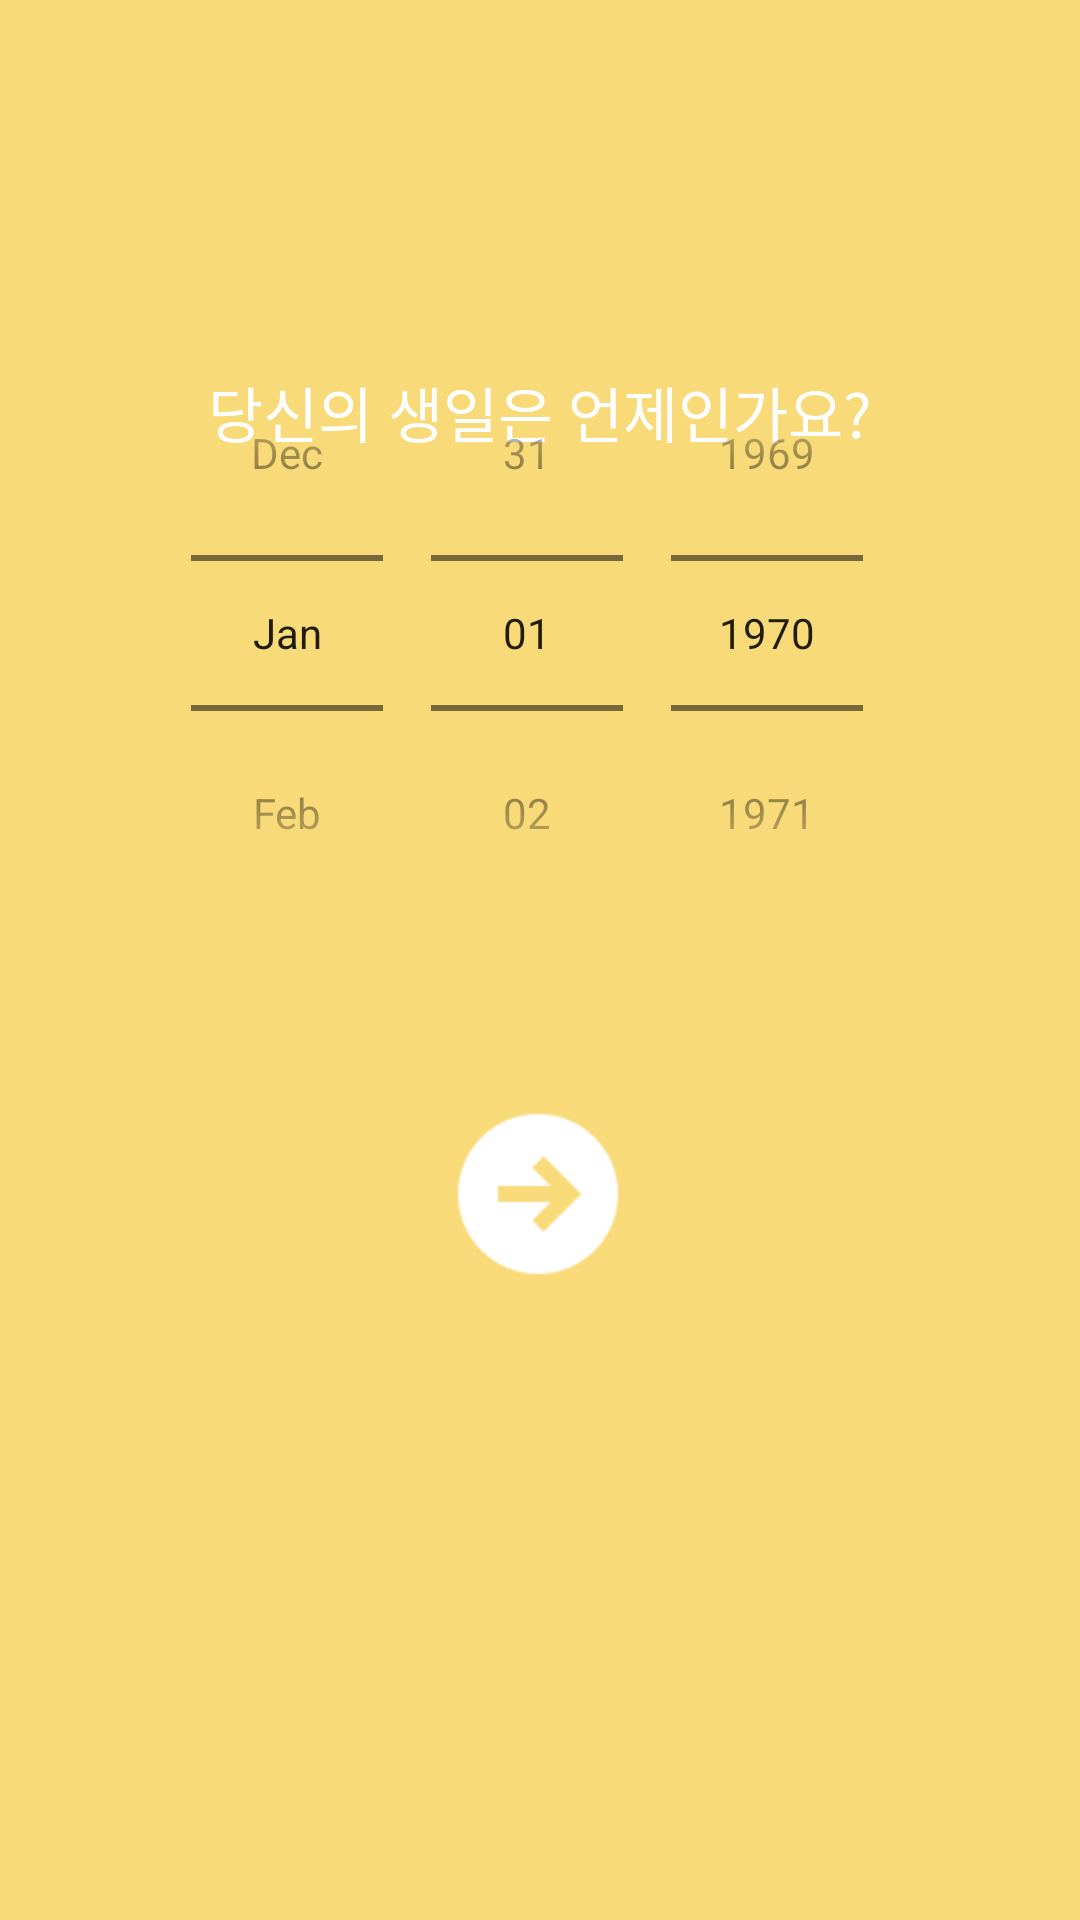

Icons on this 1080*1920 Android screen, each with its box as (x1, y1, x2, y2):
arrow: (457, 1113, 619, 1275)
